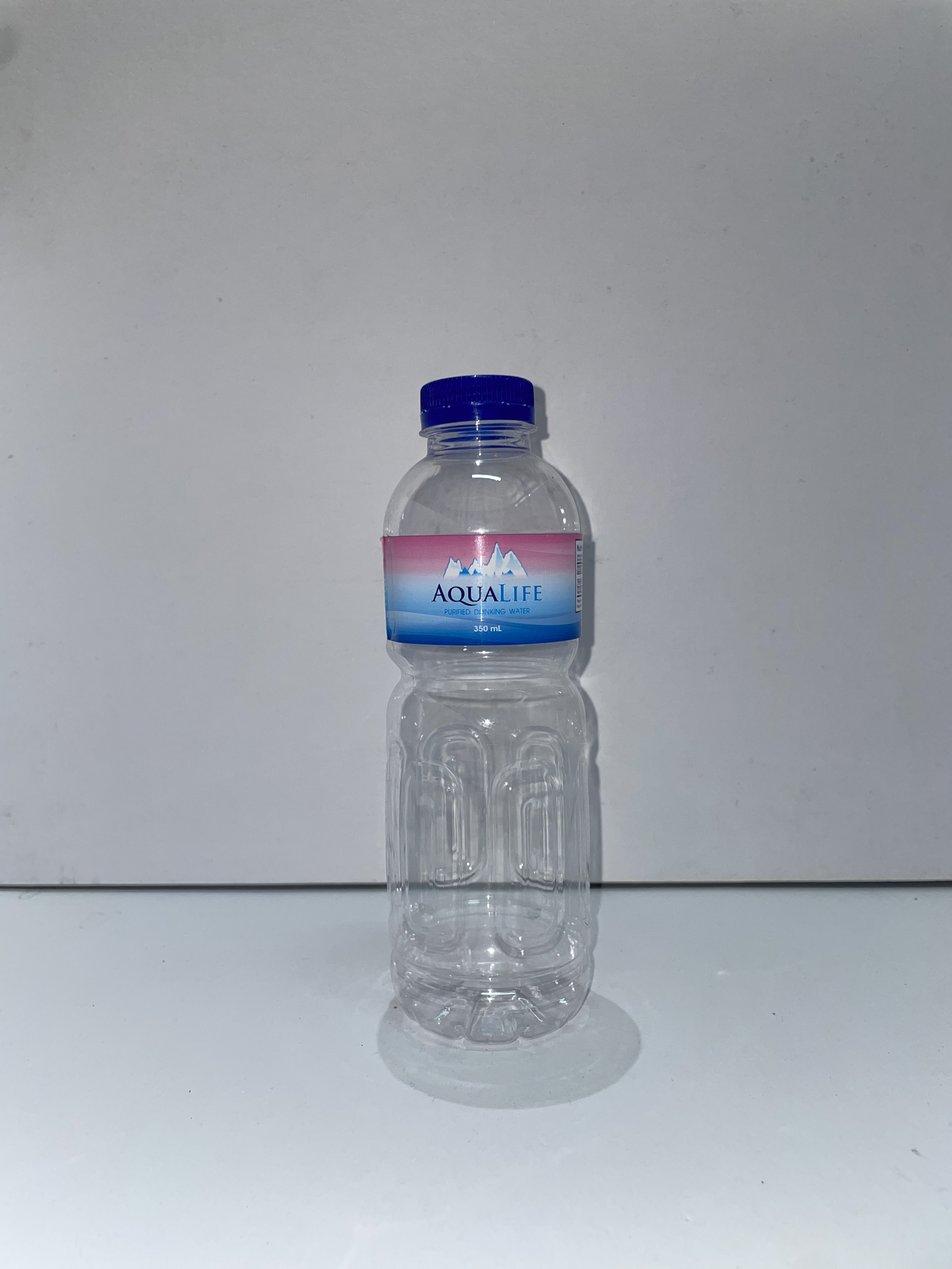Aqua Life 350ml: (382, 375, 592, 1045)
